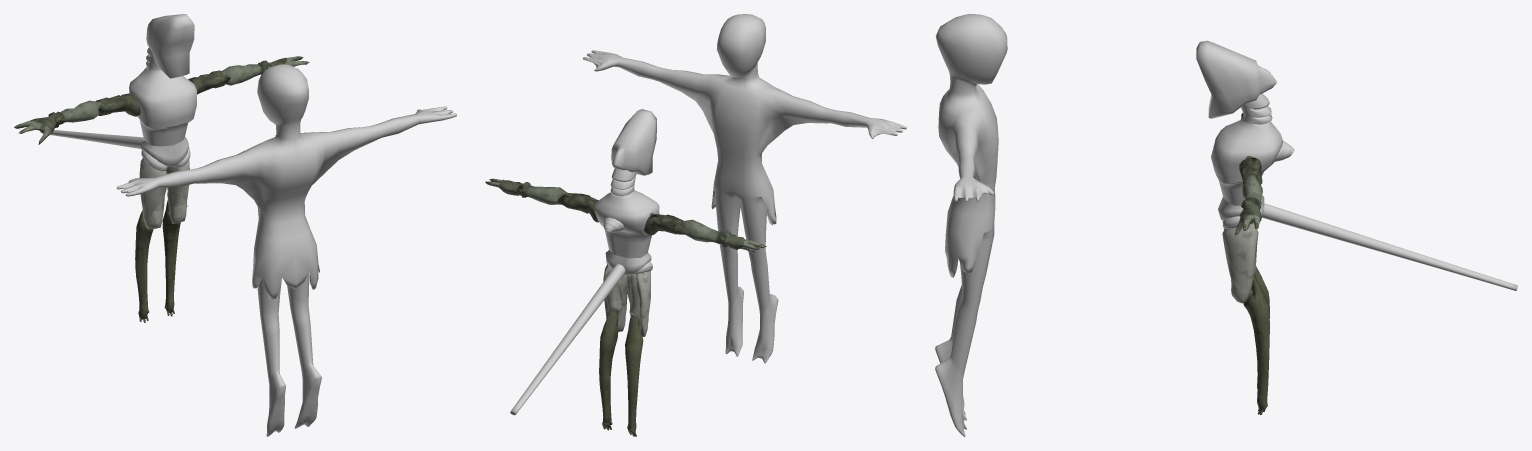
File: SexSceneMockUpCharacters1-14.fbx
The picture shows the model from 3 angles, left to right: view 1: azimuth 30°, elevation 25°; view 2: azimuth 150°, elevation 25°; view 3: azimuth 270°, elevation 25°; orthographic projection. The views are drawn at different scales.
Parts seen in each view (by area): view 1: Teacher.001, PelvisConnection, Legs, Arm; view 2: Teacher.001, PelvisConnection, Legs, Arm; view 3: Teacher.001, PelvisConnection, Legs, Arm.
Part boxes in pixels (x1,y1,x2,y2): Teacher.001: (116,64,456,436); PelvisConnection: (40,14,196,171); Legs: (135,158,189,322); Arm: (14,56,309,144); Teacher.001: (583,14,906,363); PelvisConnection: (510,109,659,415); Legs: (599,264,650,436); Arm: (485,178,766,252); Teacher.001: (935,14,1007,436); PelvisConnection: (1196,40,1517,290); Legs: (1222,221,1269,414); Arm: (1235,113,1262,235).
Bounding box in the file's own units: 1426 × 1484 × 1918.
